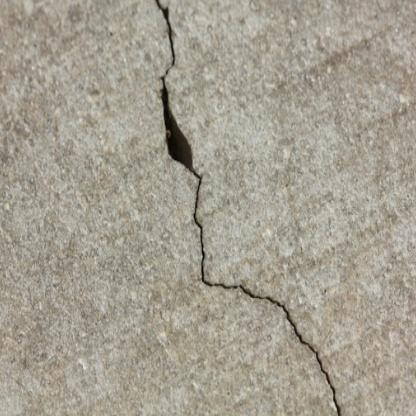Cracks: (145, 0, 348, 416)
